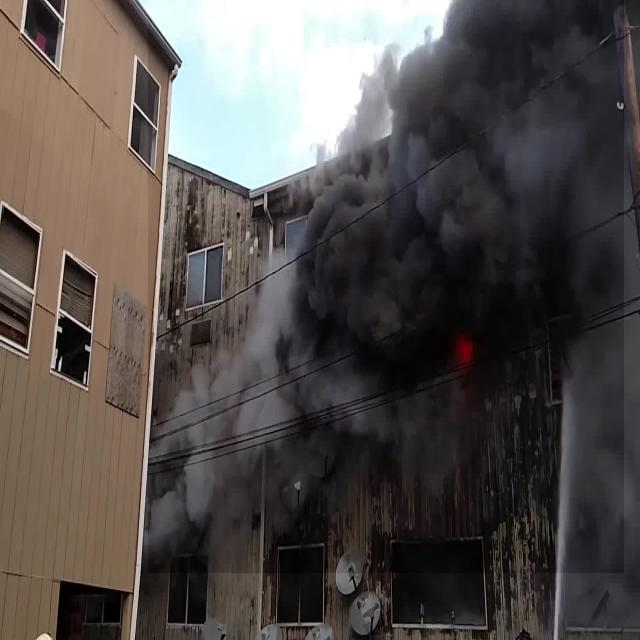Smoke: (148, 0, 624, 573)
